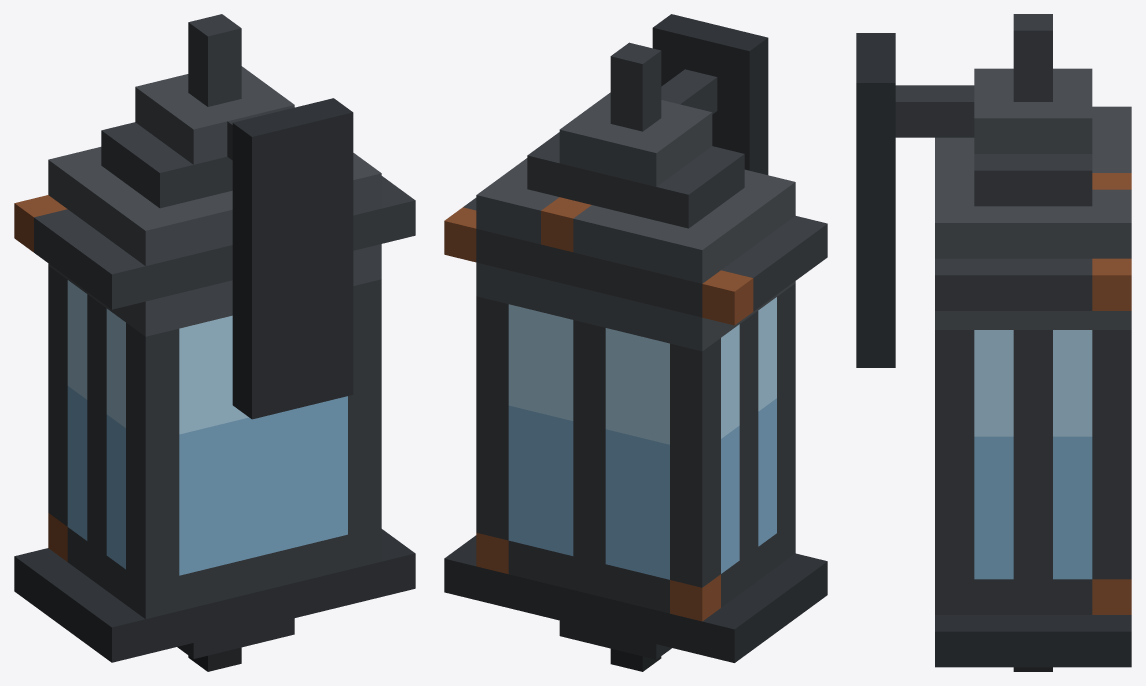
File: Prop_C1_Light.obj
The picture shows the model from 3 angles, left to right: view 1: azimuth 30°, elevation 25°; view 2: azimuth 150°, elevation 25°; view 3: azimuth 270°, elevation 25°; orthographic projection. The views are drawn at different scales.
Visible parts, largest first — view 1: Prop_C1_Light; view 2: Prop_C1_Light; view 3: Prop_C1_Light.
Part boxes in pixels (x1,y1,x2,y2): Prop_C1_Light: (14, 14, 415, 671); Prop_C1_Light: (444, 14, 827, 671); Prop_C1_Light: (856, 14, 1131, 671).
Size of the model in its own units: 0.9 by 1.8 by 0.7.
Materials: 1 (1 with a texture image).
